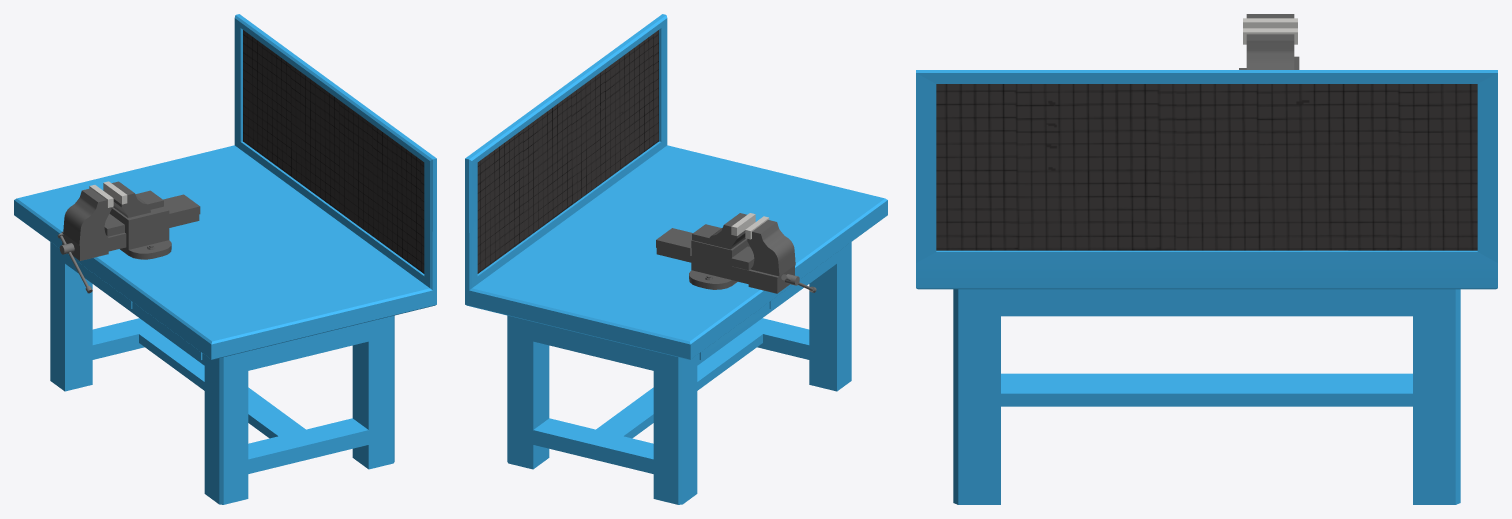
The picture shows the model from 3 angles, left to right: view 1: azimuth 30°, elevation 25°; view 2: azimuth 150°, elevation 25°; view 3: azimuth 270°, elevation 25°; orthographic projection. The views are drawn at different scales.
Visible parts, largest first — view 1: polySurface17; view 2: polySurface17; view 3: polySurface17.
Part boxes in pixels (x1,y1,x2,y2): polySurface17: (14, 14, 436, 504); polySurface17: (465, 14, 887, 504); polySurface17: (916, 14, 1497, 504).
Size of the model in its own units: 2.68 by 3.08 by 3.59.
Materials: 1 (1 with a texture image).
